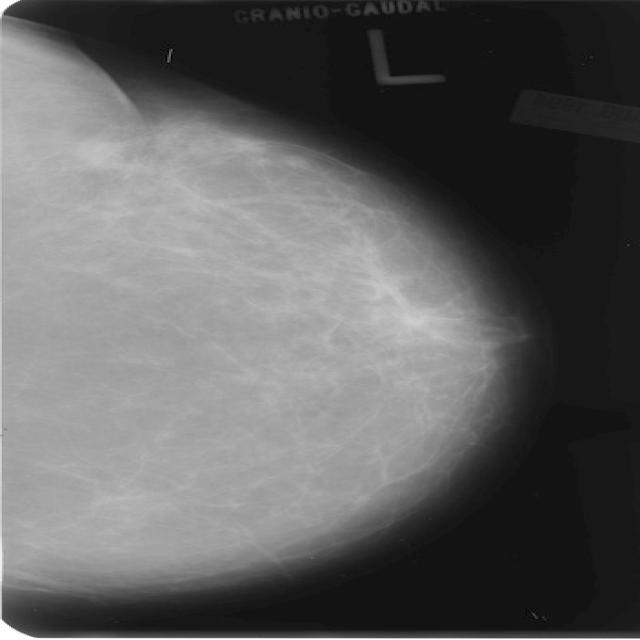tumour: (71, 136, 127, 170)
